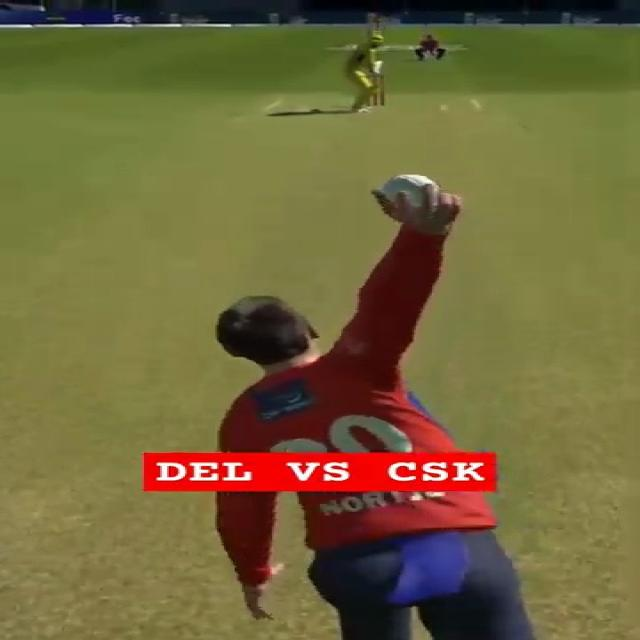ball: (370, 173, 439, 206)
